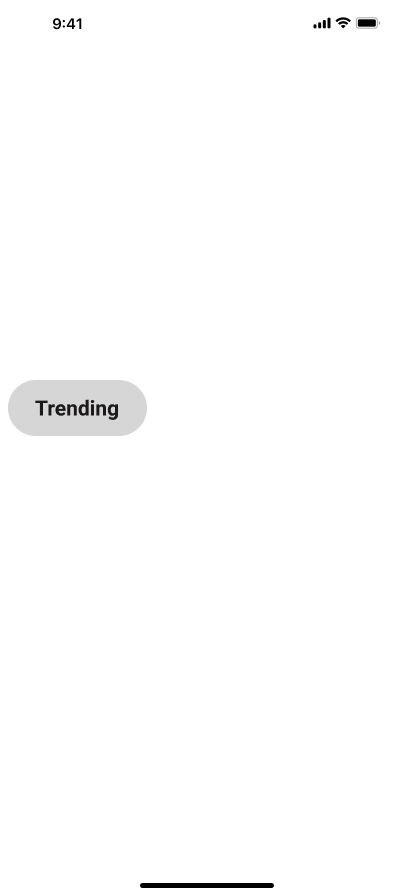Buttons: (8, 380, 155, 436)
Home Indicator: (0, 862, 414, 896)
Status Bar: (0, 0, 414, 44)
